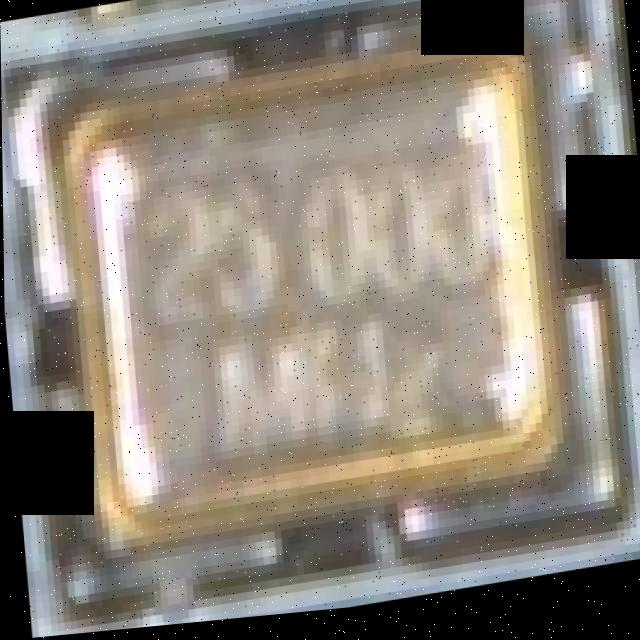clock Q1: (6, 0, 620, 640)
